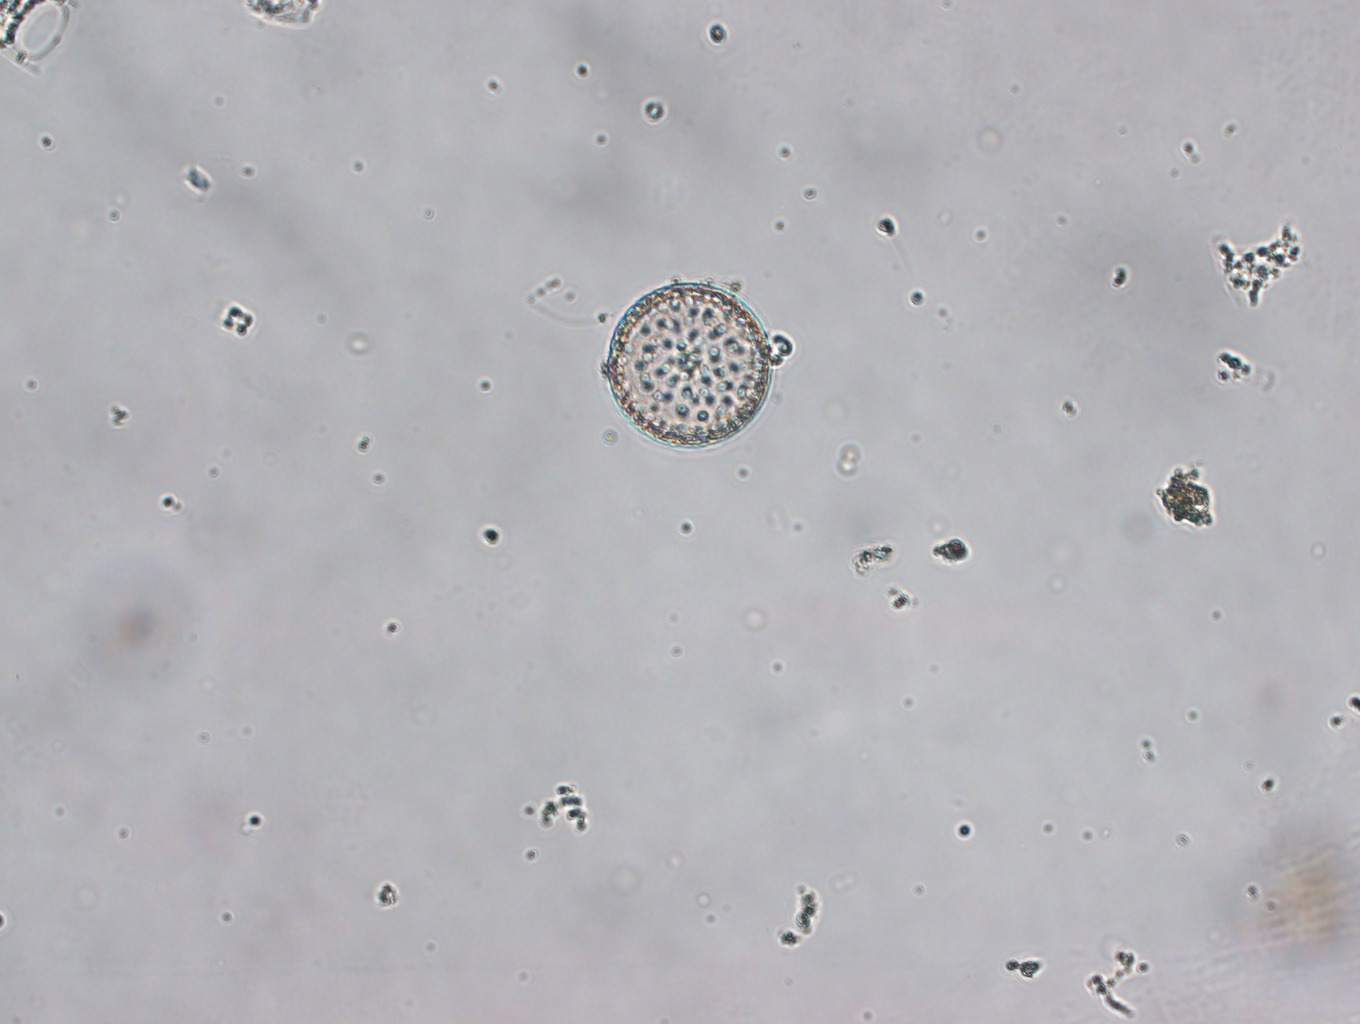coscinodiscus: (605, 281, 772, 449)
